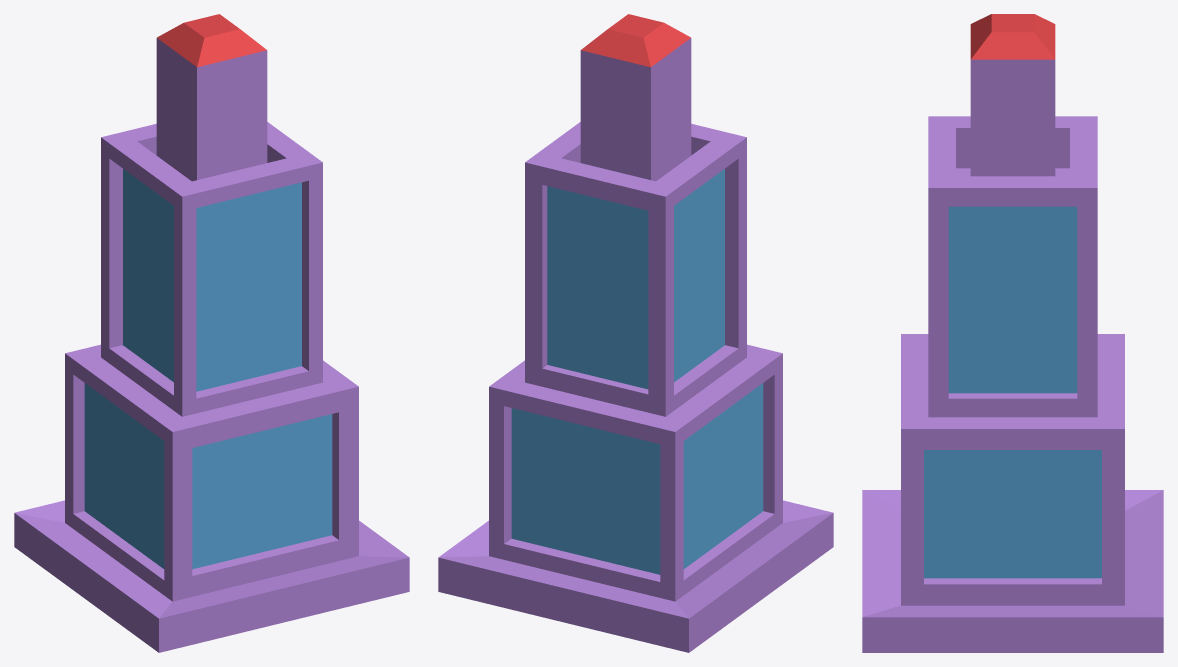
The model's file is TestAssetglb.gltf.
3 views of the same model, side by side, from view 1: azimuth 30°, elevation 25°; view 2: azimuth 150°, elevation 25°; view 3: azimuth 270°, elevation 25° (orthographic). The views are drawn at different scales.
Visible parts, largest first — view 1: Cube; view 2: Cube; view 3: Cube.
Boxes of the visible parts, left/top/right/bottom form: Cube: left=14, top=14, right=409, bottom=652; Cube: left=438, top=14, right=833, bottom=652; Cube: left=862, top=14, right=1163, bottom=652.
Bounding box in the file's own units: 0.269 × 0.5573 × 0.269.
